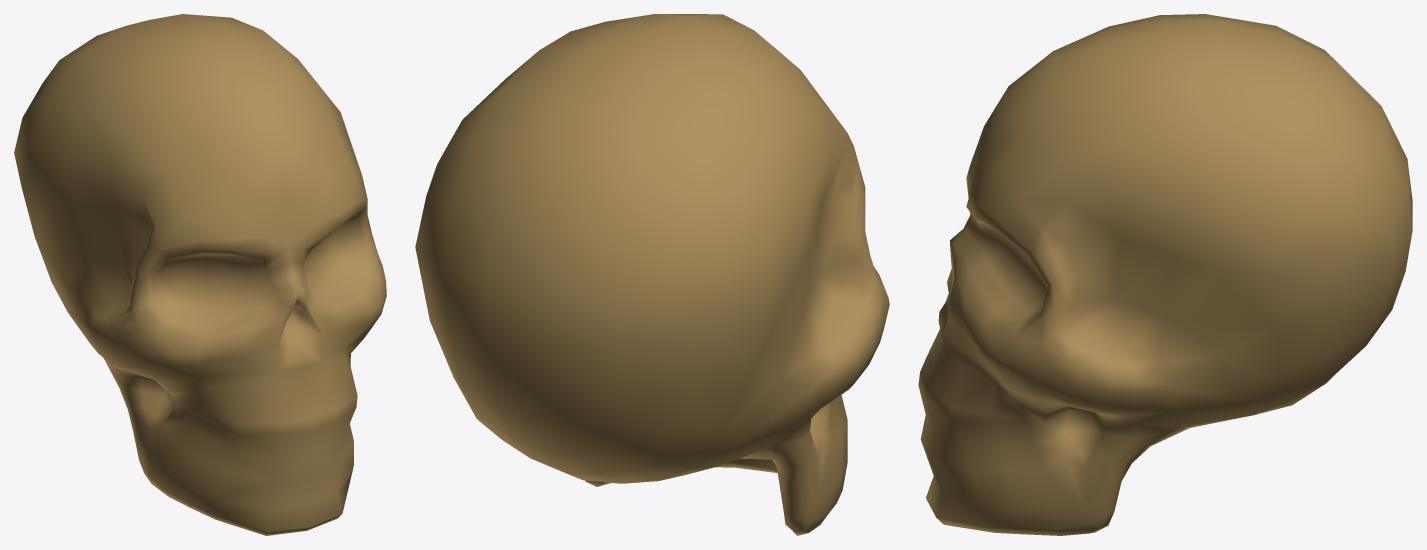
Rendered from Skull.FBX.
3 views of the same model, side by side, from view 1: azimuth 30°, elevation 25°; view 2: azimuth 150°, elevation 25°; view 3: azimuth 270°, elevation 25° (orthographic). The views are drawn at different scales.
Parts seen in each view (by area): view 1: Skull; view 2: Skull; view 3: Skull.
Part boxes in pixels (x1=…): Skull: x1=14, y1=14, x2=386, y2=535; Skull: x1=415, y1=14, x2=889, y2=535; Skull: x1=918, y1=14, x2=1412, y2=535.
Size of the model in its own units: 17.3 by 24.09 by 25.47.
